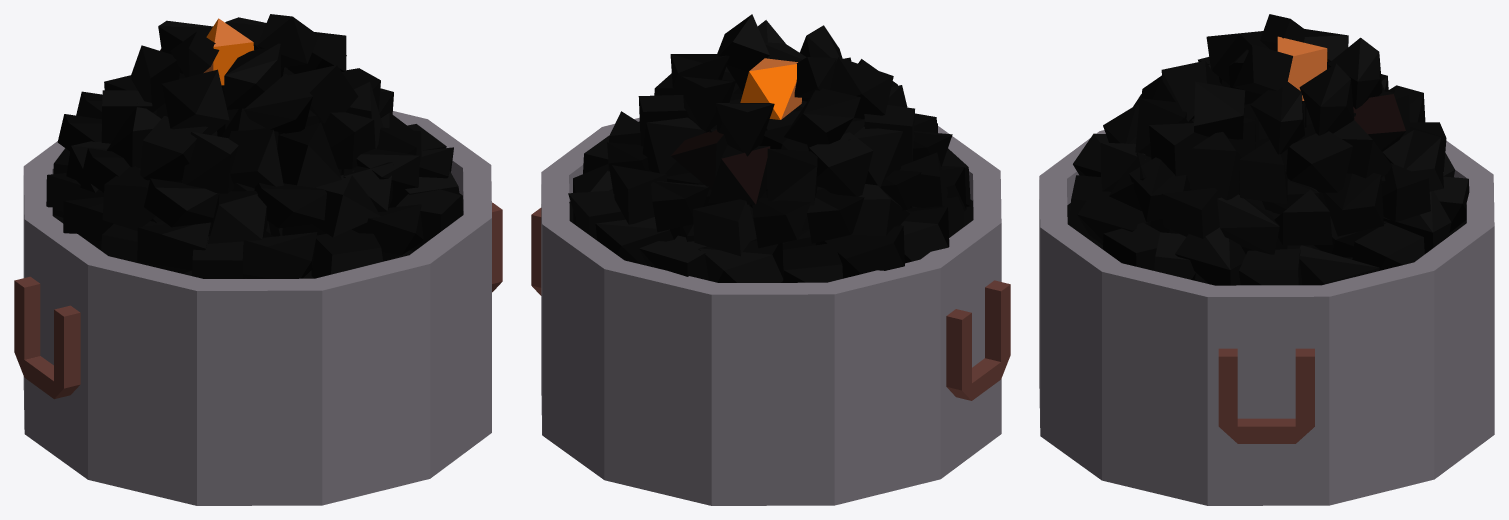
The model's file is coal_basket.fbx.
3 renders of one model, left to right at view 1: azimuth 30°, elevation 25°; view 2: azimuth 150°, elevation 25°; view 3: azimuth 270°, elevation 25°, orthographic. The views are drawn at different scales.
Parts seen in each view (by area): view 1: iron_ore.002; view 2: iron_ore.002; view 3: iron_ore.002.
Part boxes in pixels (x1,y1,x2,y2): iron_ore.002: [14, 14, 502, 505]; iron_ore.002: [531, 14, 1010, 505]; iron_ore.002: [1039, 14, 1494, 505].
Bounding box in the file's own units: 255 × 217 × 236.
